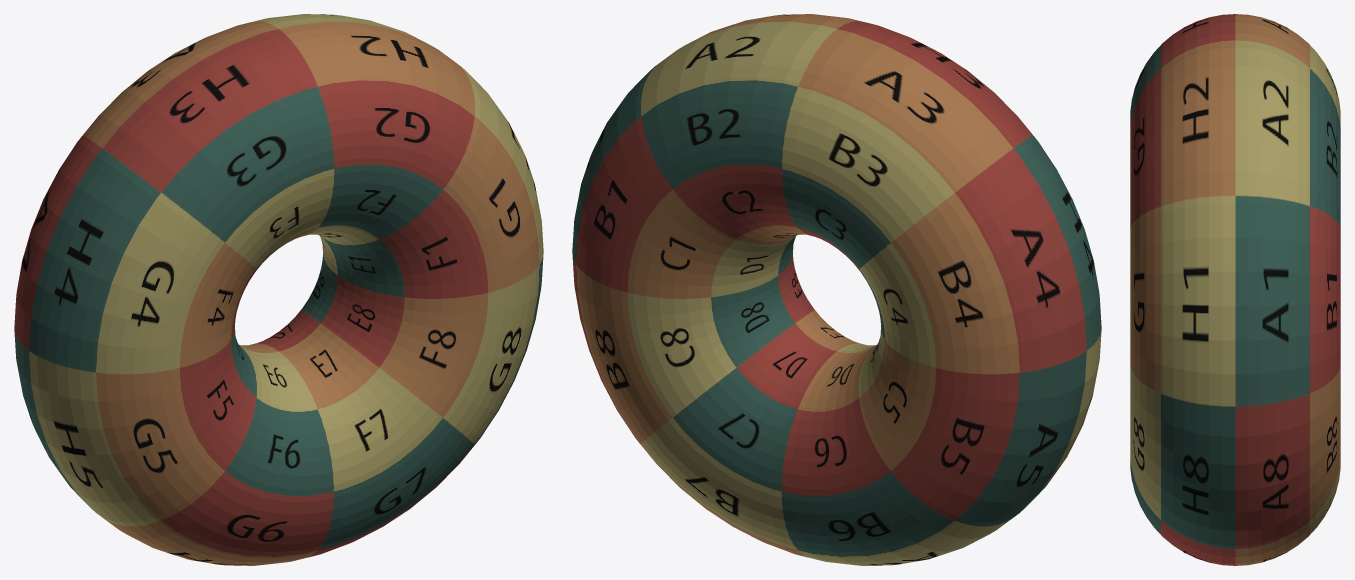
File: texture_torus_R6_r25.glb
The picture shows the model from 3 angles, left to right: view 1: azimuth 30°, elevation 25°; view 2: azimuth 150°, elevation 25°; view 3: azimuth 270°, elevation 25°; orthographic projection. The views are drawn at different scales.
Parts seen in each view (by area): view 1: world; view 2: world; view 3: world.
Part boxes in pixels (left/top/right/bottom): world: left=14, top=14, right=543, bottom=565; world: left=572, top=14, right=1101, bottom=565; world: left=1130, top=14, right=1340, bottom=565.
Bounding box in the file's own units: 22.67 × 22.62 × 8.65.
Materials: 1 (1 with a texture image).
